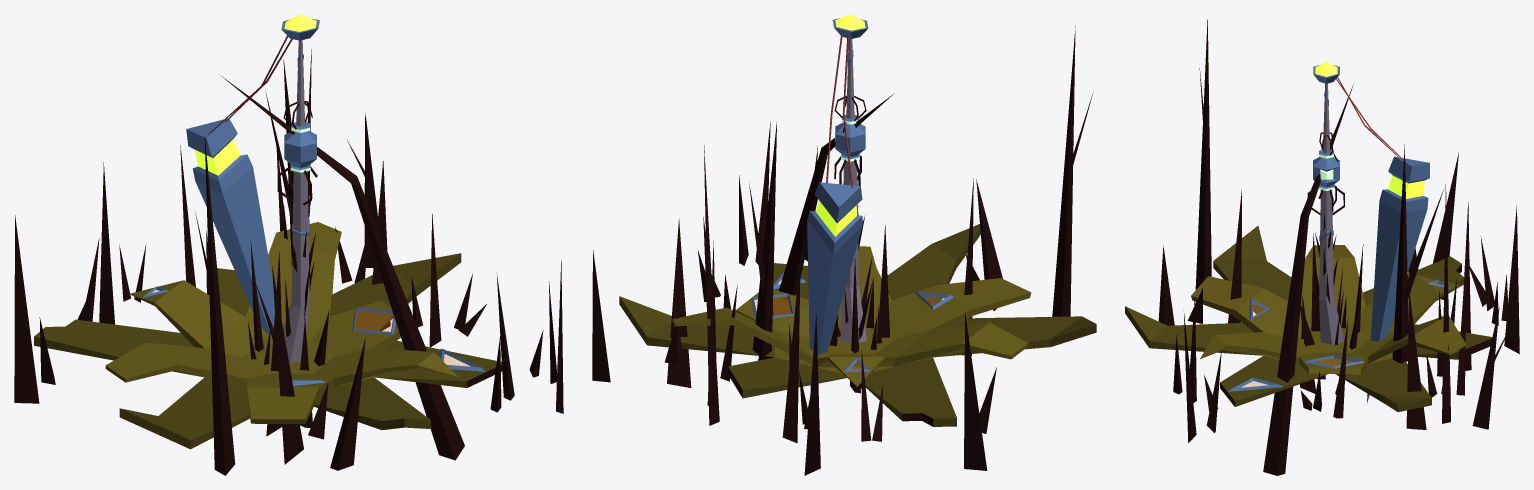
File: Pests-MainPoint3.fbx
3 renders of one model, left to right at view 1: azimuth 30°, elevation 25°; view 2: azimuth 150°, elevation 25°; view 3: azimuth 270°, elevation 25°, orthographic. The views are drawn at different scales.
Parts seen in each view (by area): view 1: Pests-MainPoint3; view 2: Pests-MainPoint3; view 3: Pests-MainPoint3.
Boxes of the visible parts, x1,y1,x2,y2 form: Pests-MainPoint3: (14, 14, 563, 475); Pests-MainPoint3: (592, 14, 1096, 475); Pests-MainPoint3: (1125, 19, 1519, 475).
Bounding box in the file's own units: 0.9734 × 0.9551 × 0.9805.
